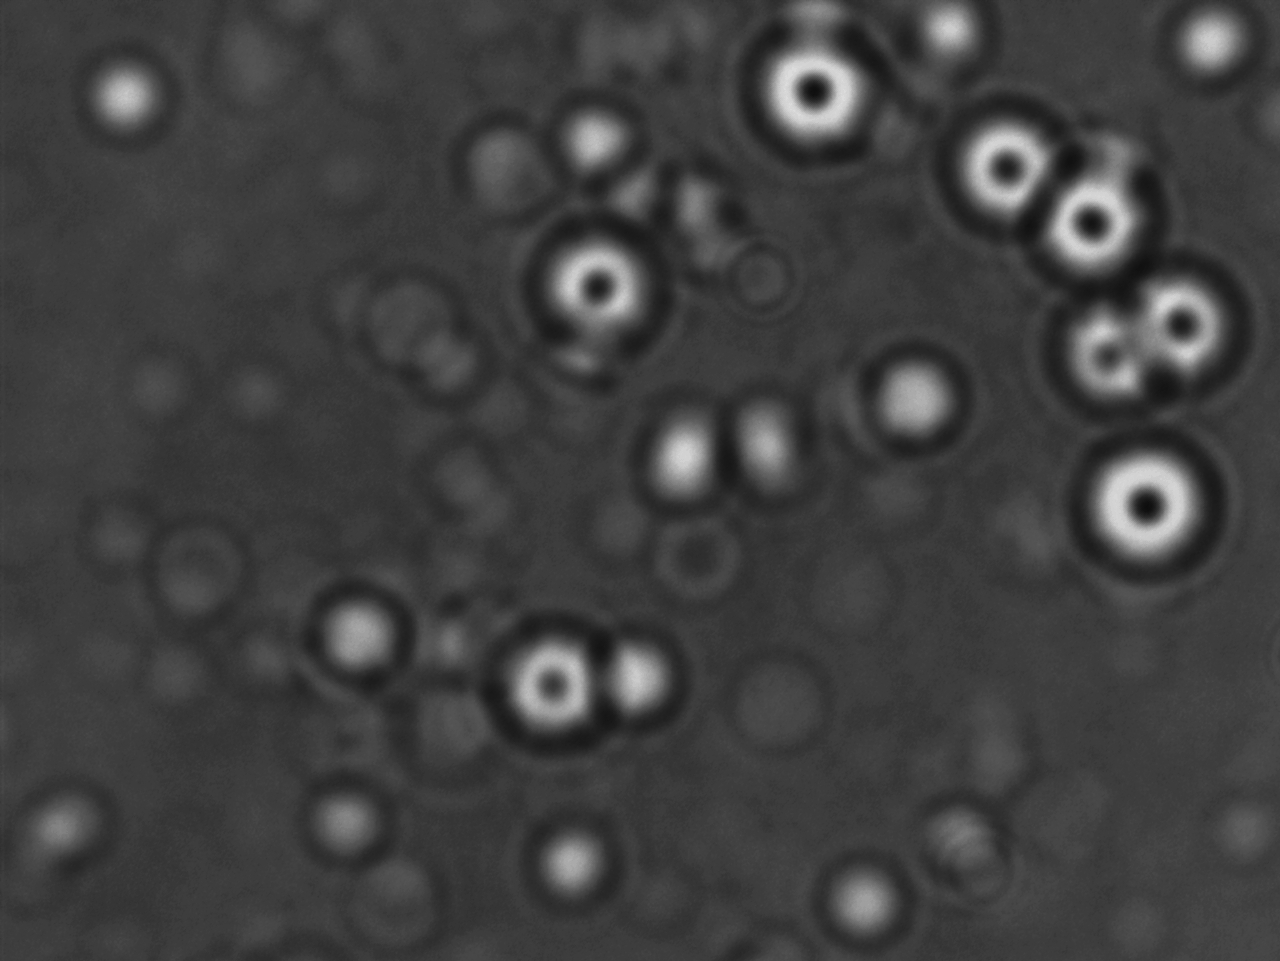depth:32: (1069, 426, 1233, 593), (746, 20, 885, 168), (521, 213, 658, 356), (1115, 255, 1246, 397), (492, 622, 632, 745), (1027, 165, 1160, 288), (934, 102, 1061, 230)
